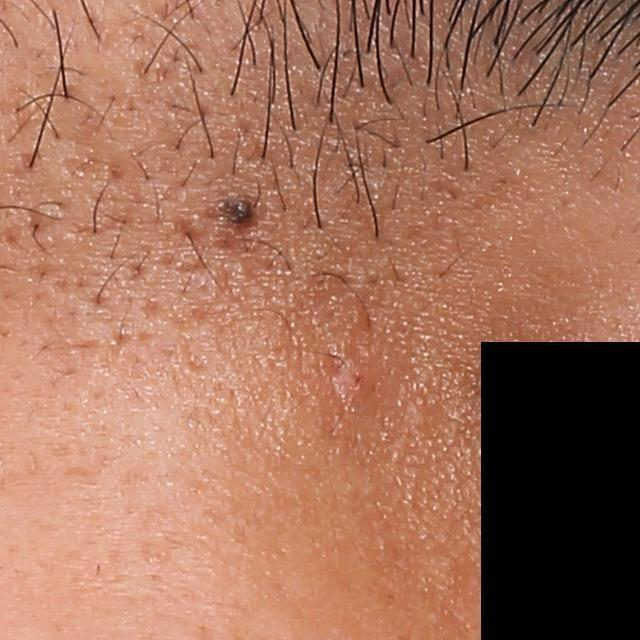nevus: (211, 202, 251, 235)
